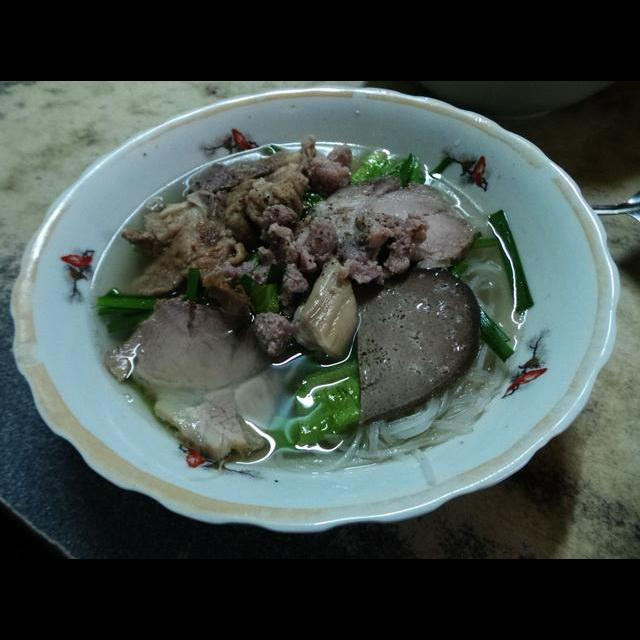banh hu tieu: (270, 342, 526, 484)
gan: (346, 255, 491, 432)
hu tieu: (26, 109, 597, 526)
thit bam: (266, 204, 429, 300), (243, 300, 301, 360)
thit heo: (96, 286, 281, 469), (261, 172, 485, 300)
